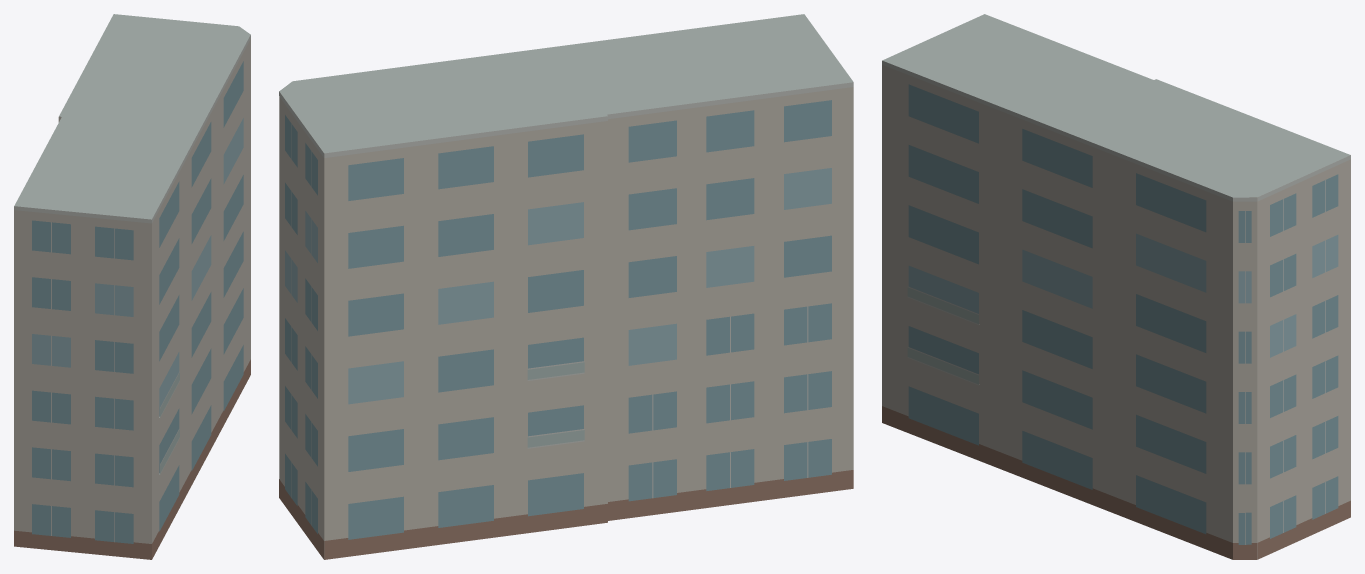
The model's file is survey-upis-32739776.glb.
3 renders of one model, left to right at view 1: azimuth 30°, elevation 25°; view 2: azimuth 150°, elevation 25°; view 3: azimuth 270°, elevation 25°, orthographic. The views are drawn at different scales.
Parts seen in each view (by area): view 1: survey-upis-32739776.tmp; view 2: survey-upis-32739776.tmp; view 3: survey-upis-32739776.tmp.
Boxes of the visible parts, x1,y1,x2,y2 form: survey-upis-32739776.tmp: (14,14,250,559); survey-upis-32739776.tmp: (279,14,853,559); survey-upis-32739776.tmp: (882,14,1350,559).
Bounding box in the file's own units: 22.82 × 21 × 24.63.
